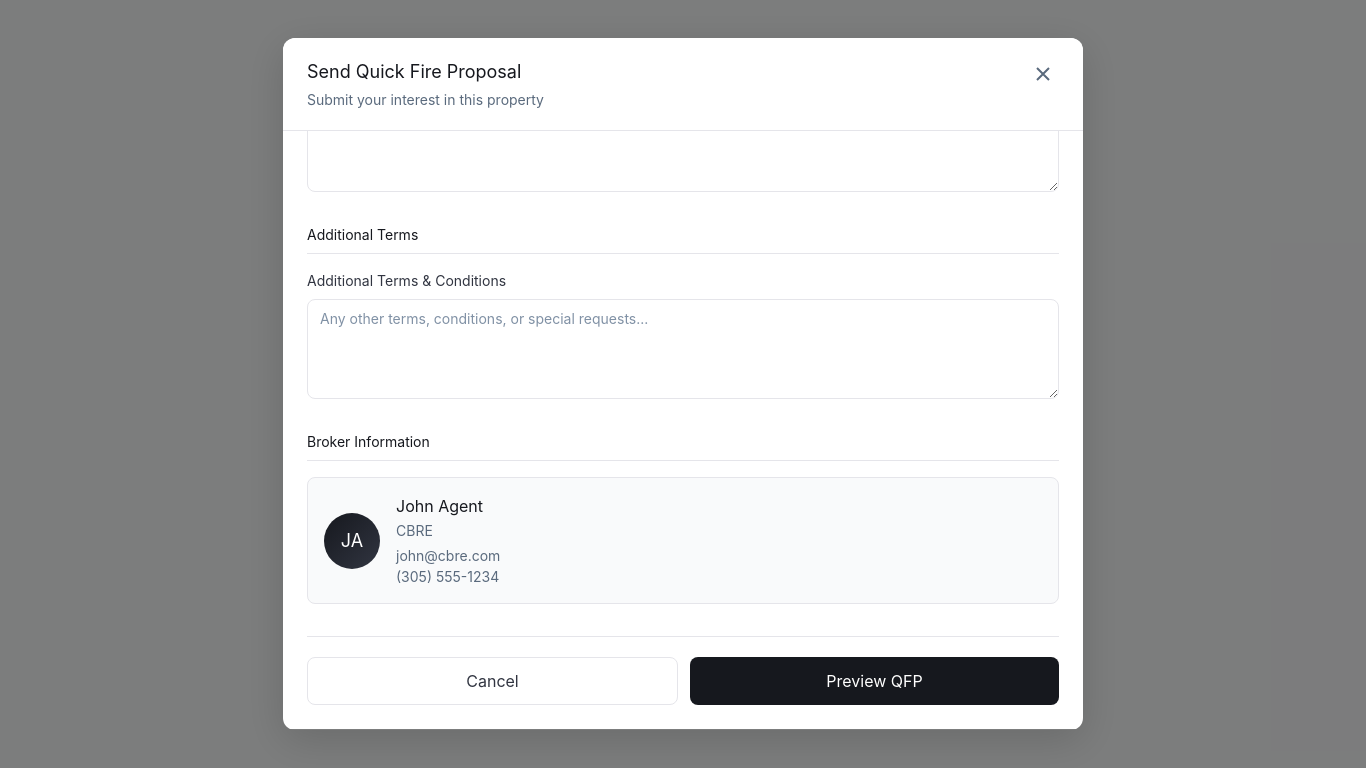
Scenario: QFPModal › should show validation error when required fields are empty
(page scrolled)
# Click preview without selecting a business
Click the button "Preview QFP" at x=874, y=681, box [690,657,1059,705]
(page scrolled)
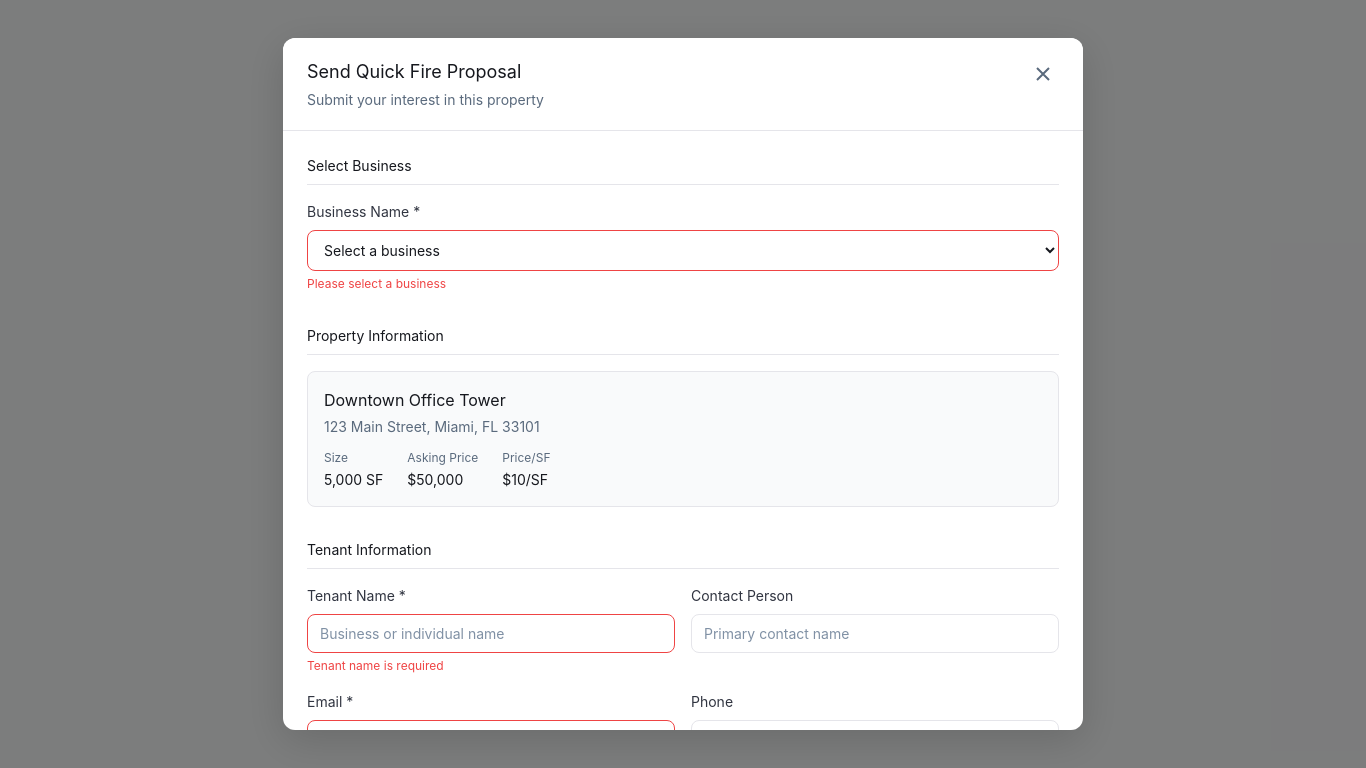
Expected: the text "Please select a business" is shown, [307,276,446,291]
